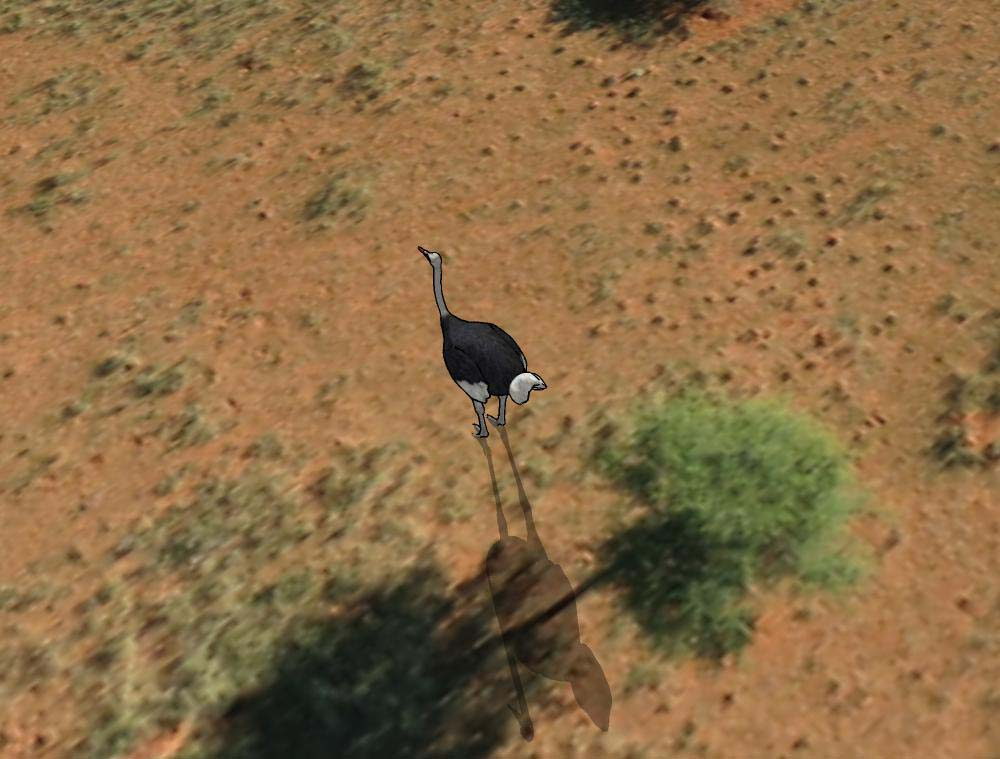springbok: (417, 239, 550, 447)
